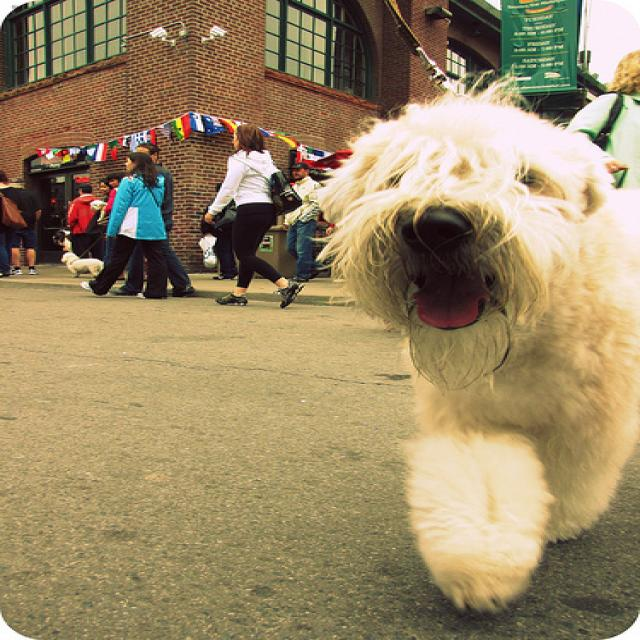dog-wheaten_terrier: (292, 63, 637, 622)
